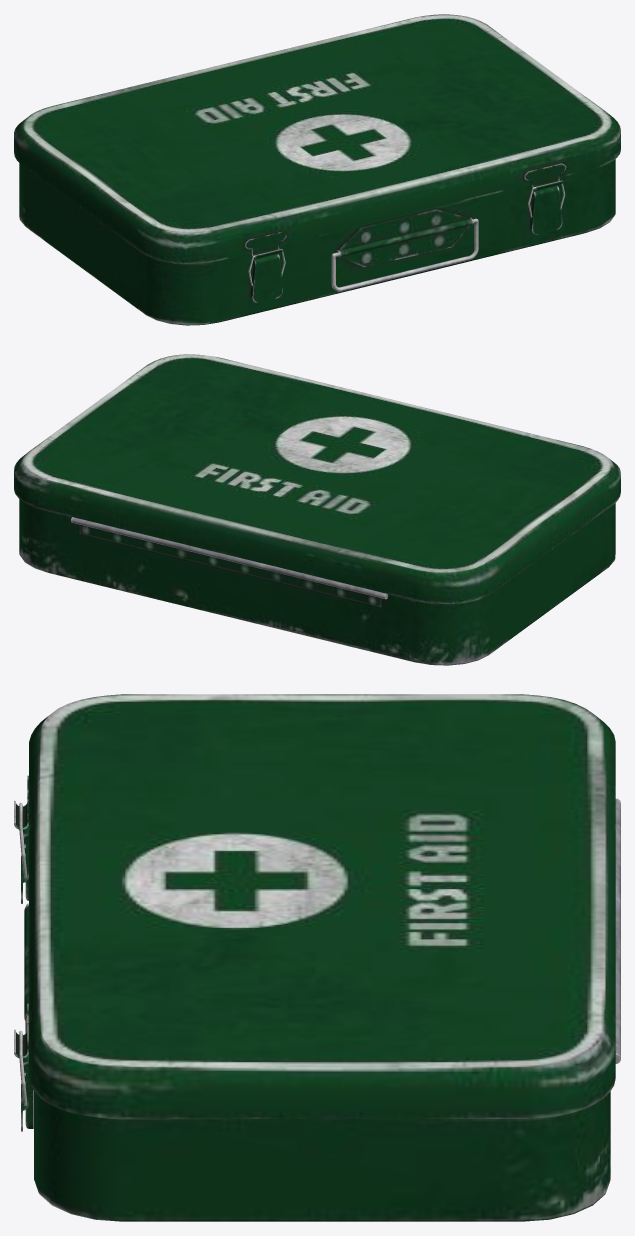
The model's file is kit_medico.glb.
3 renders of one model, top to bottom at view 1: azimuth 30°, elevation 25°; view 2: azimuth 150°, elevation 25°; view 3: azimuth 270°, elevation 25°, orthographic. The views are drawn at different scales.
Parts seen in each view (by area): view 1: Malha; view 2: Malha; view 3: Malha.
Part boxes in pixels (x1,y1,x2,y2): Malha: (14, 14, 620, 325); Malha: (14, 354, 620, 665); Malha: (14, 694, 620, 1221).
Size of the model in its own units: 0.3 by 0.0557 by 0.1999.
Materials: 1 (1 with a texture image).
